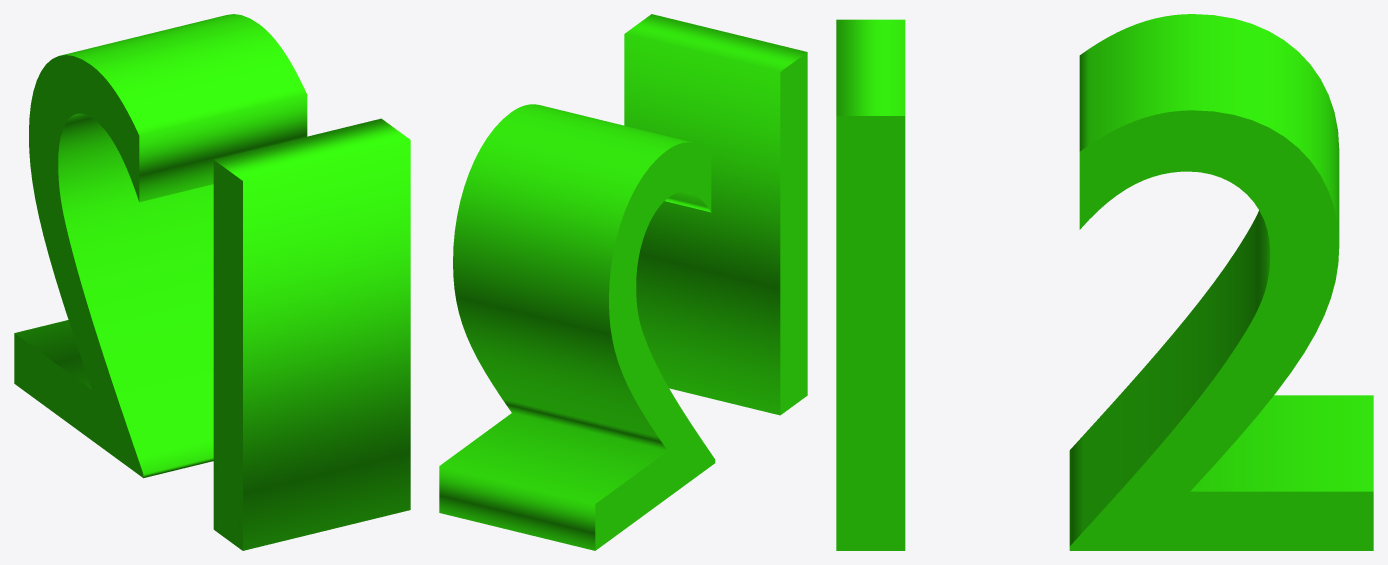
File: number12.obj
The picture shows the model from 3 angles, left to right: view 1: azimuth 30°, elevation 25°; view 2: azimuth 150°, elevation 25°; view 3: azimuth 270°, elevation 25°; orthographic projection. The views are drawn at different scales.
Visible parts, largest first — view 1: Text.004_Text.017; view 2: Text.004_Text.017; view 3: Text.004_Text.017.
Part boxes in pixels (x1=…): Text.004_Text.017: x1=14, y1=14, x2=410, y2=550; Text.004_Text.017: x1=439, y1=14, x2=807, y2=550; Text.004_Text.017: x1=836, y1=14, x2=1373, y2=550.
Bounding box in the file's own units: 2.23 × 4.76 × 5.27.
